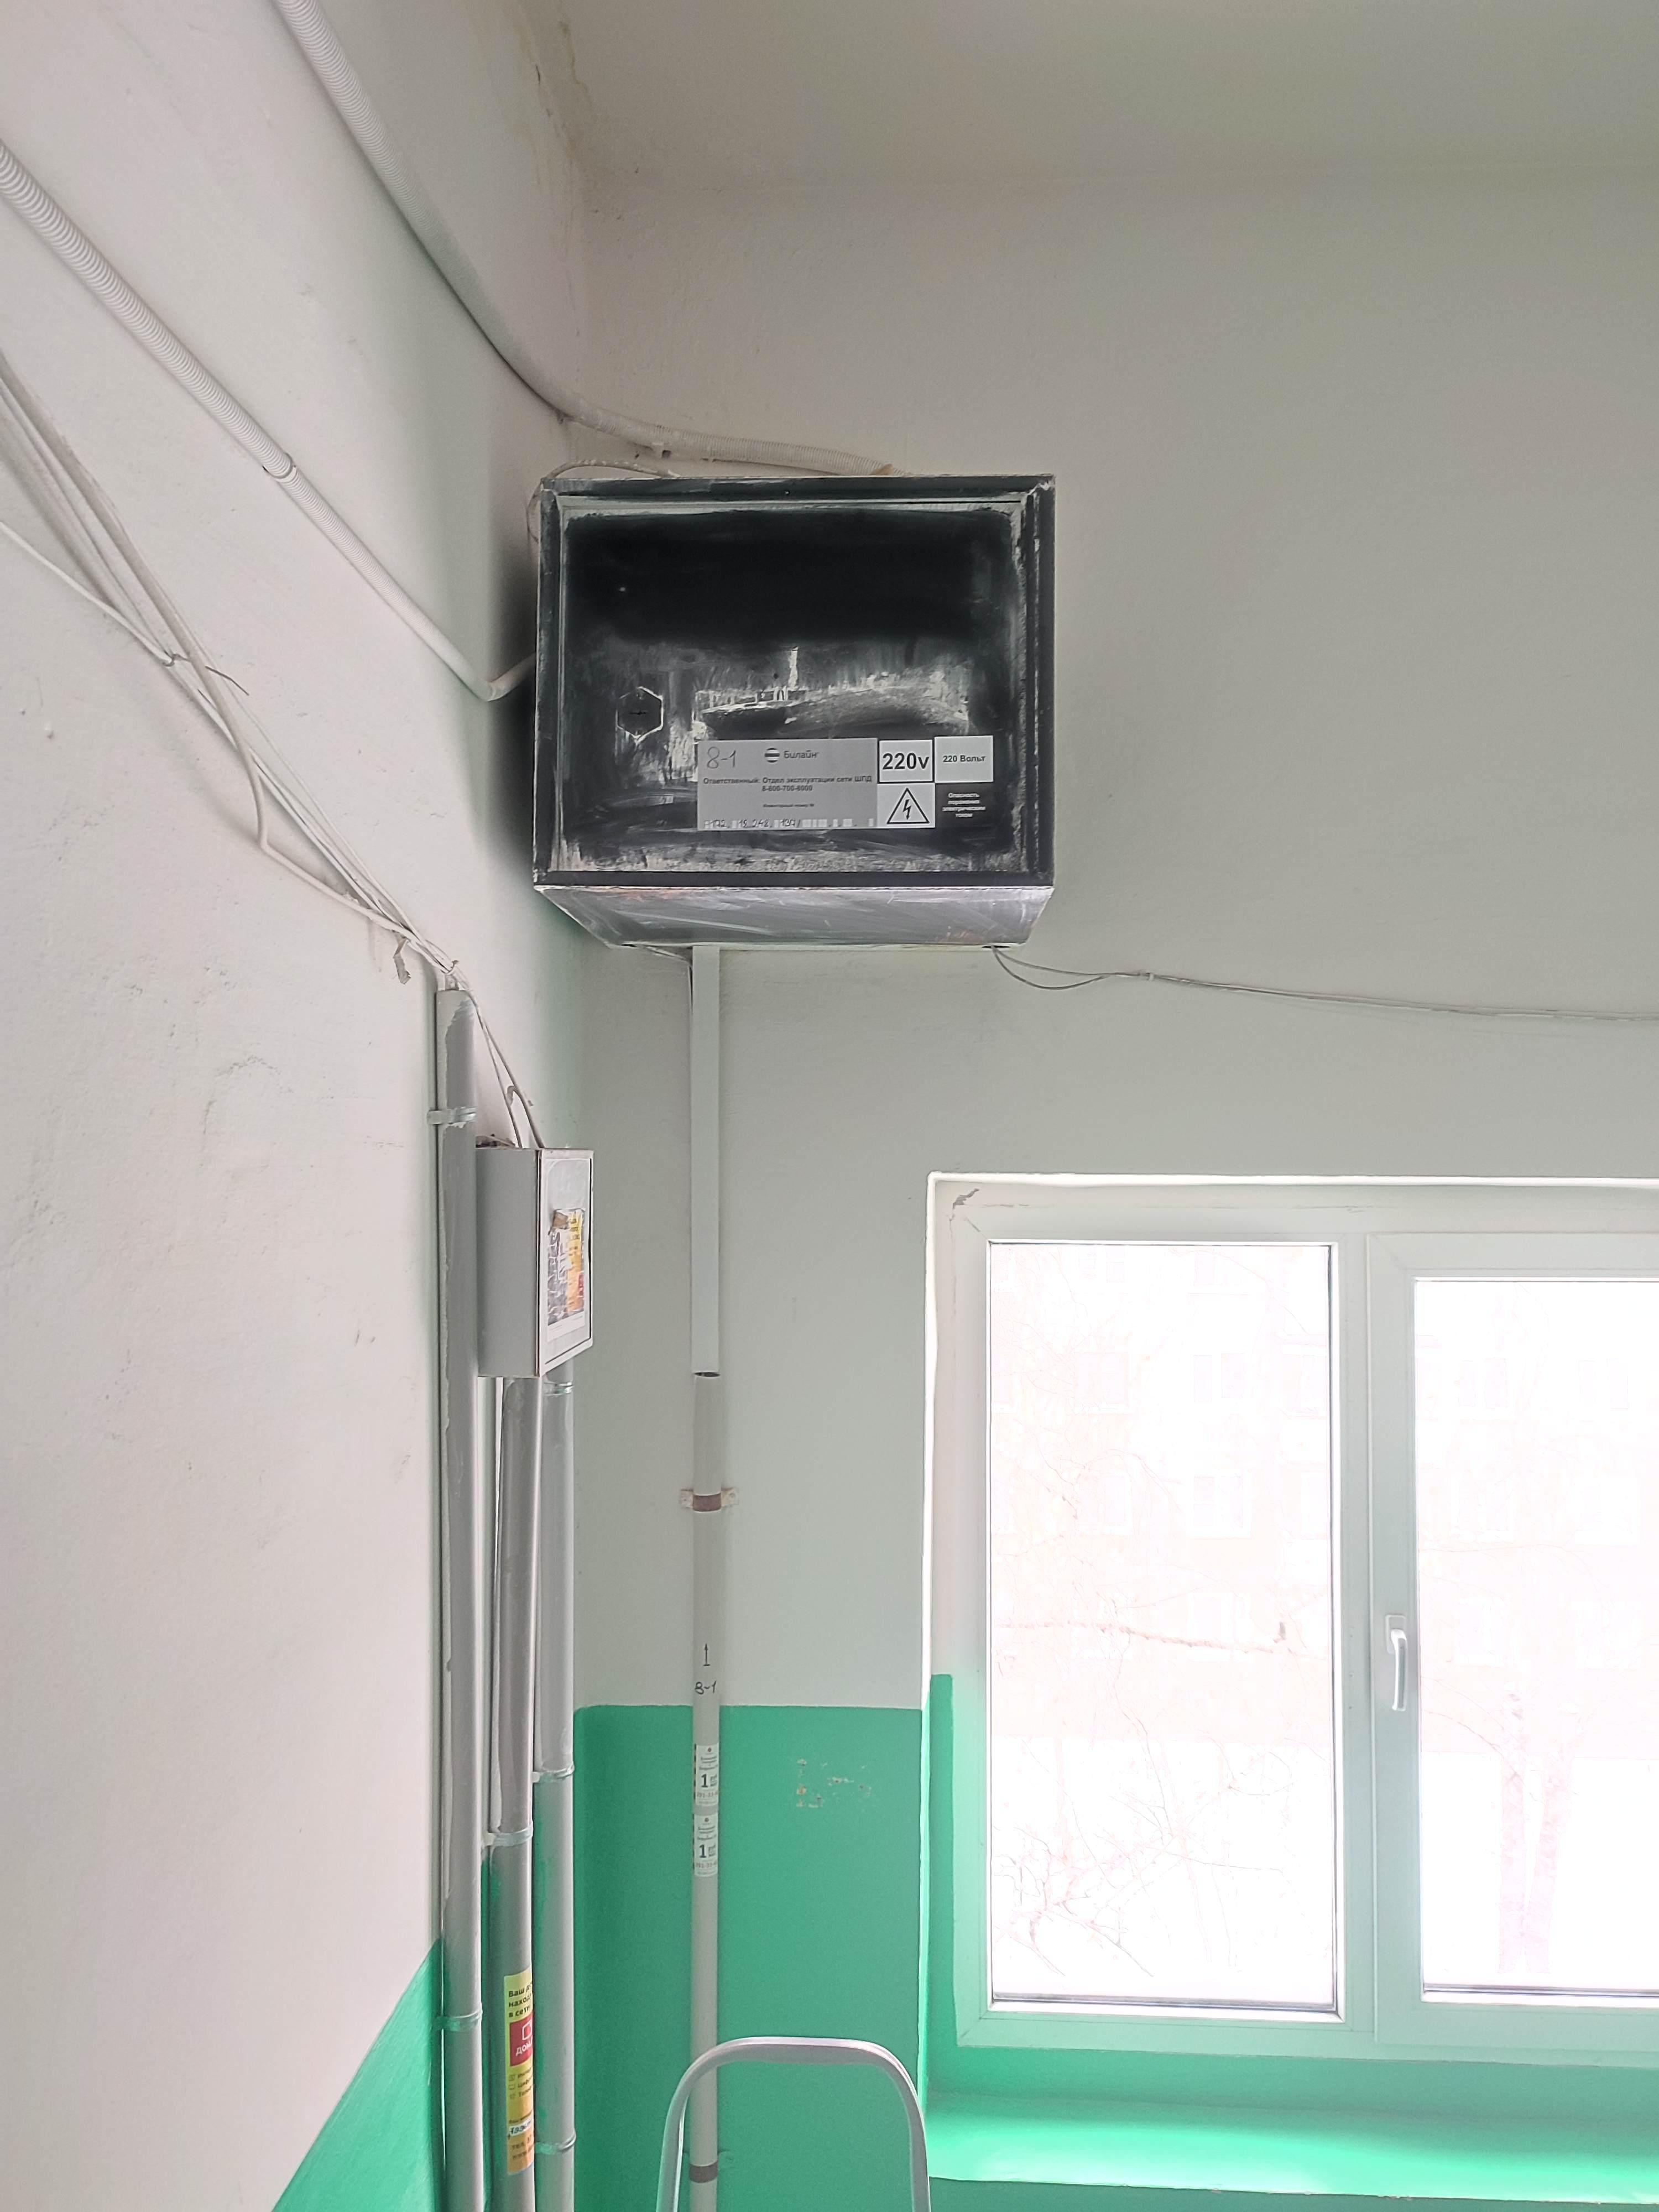shta-9m: (525, 462, 1063, 954)
